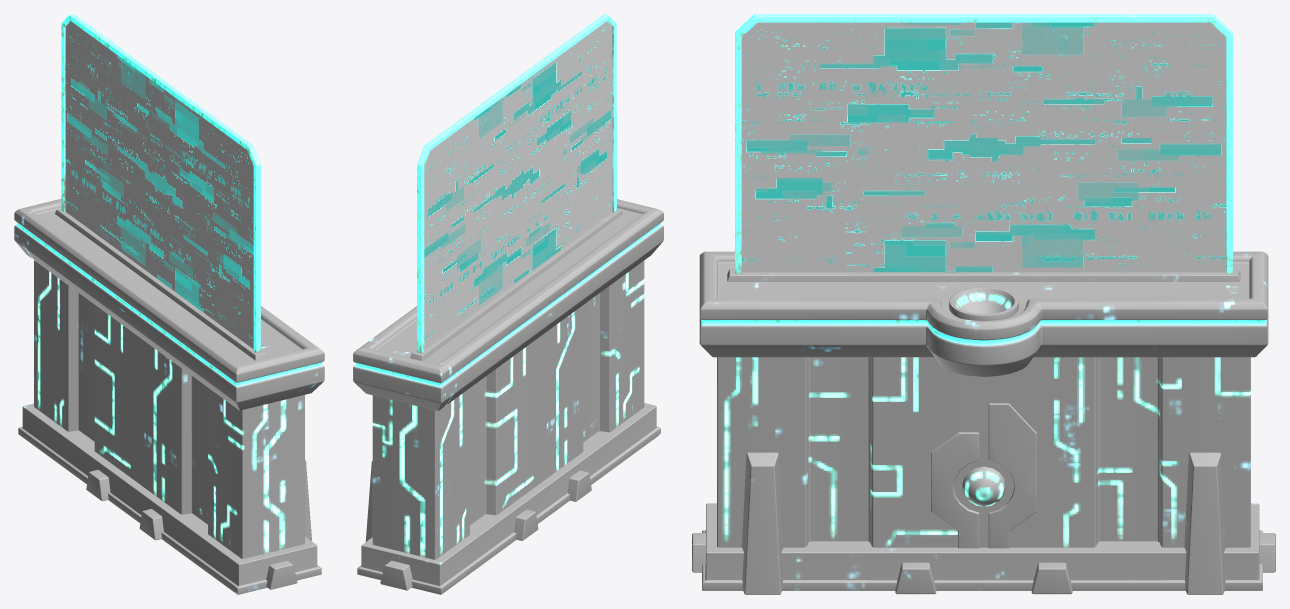
File: PalBox.fbx
3 renders of one model, left to right at view 1: azimuth 30°, elevation 25°; view 2: azimuth 150°, elevation 25°; view 3: azimuth 270°, elevation 25°, orthographic. The views are drawn at different scales.
Visible parts, largest first — view 1: SM_PalBox.mo; view 2: SM_PalBox.mo; view 3: SM_PalBox.mo.
Boxes of the visible parts, box(x1,y1,x2,y2) form: SM_PalBox.mo: box(14, 14, 324, 594); SM_PalBox.mo: box(353, 14, 663, 594); SM_PalBox.mo: box(692, 14, 1275, 594).
Bounding box in the file's own units: 57.43 × 185 × 180.
